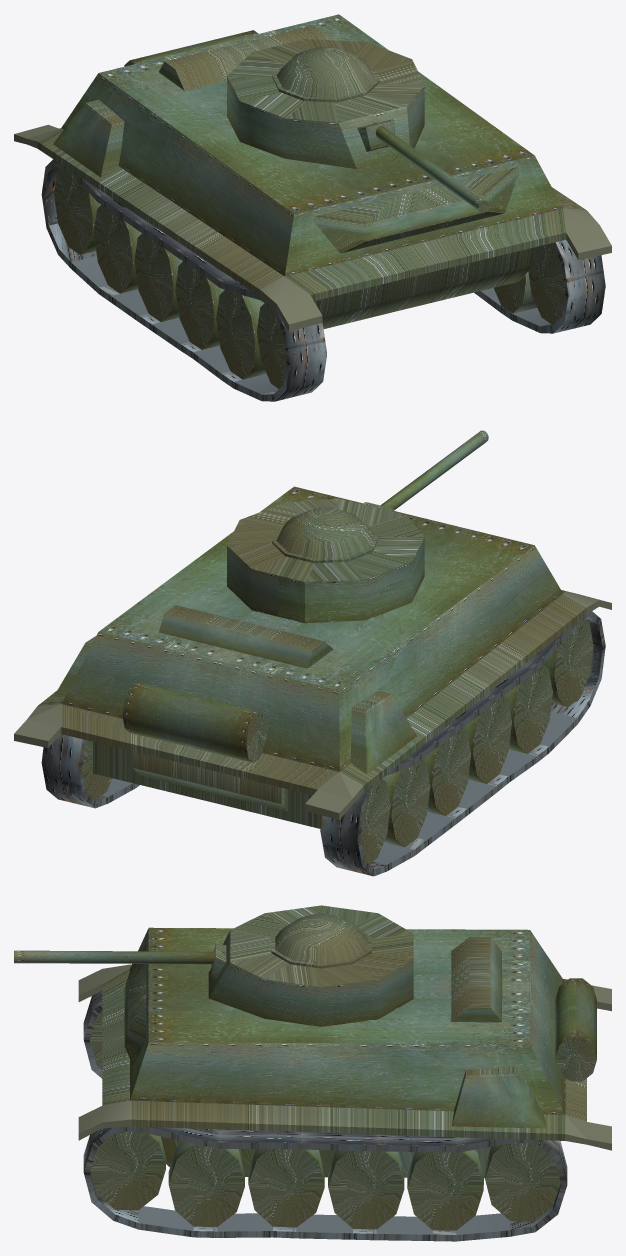
Rendered from Tank.fbx.
3 renders of one model, top to bottom at view 1: azimuth 30°, elevation 25°; view 2: azimuth 150°, elevation 25°; view 3: azimuth 270°, elevation 25°, orthographic. The views are drawn at different scales.
Visible parts, largest first — view 1: Hull, Turret, Barrel; view 2: Hull, Turret, Barrel; view 3: Hull, Turret, Barrel.
Part boxes in pixels (x1,y1,x2,y2): Hull: (14, 14, 611, 401); Turret: (227, 39, 424, 168); Barrel: (372, 122, 488, 212); Hull: (14, 486, 611, 876); Turret: (227, 498, 424, 623); Barrel: (380, 430, 488, 509); Hull: (78, 927, 611, 1241); Turret: (208, 905, 413, 1026); Barrel: (14, 950, 225, 964).
Size of the model in its own units: 79.02 by 58.66 by 129.
Materials: 2 (2 with a texture image).
